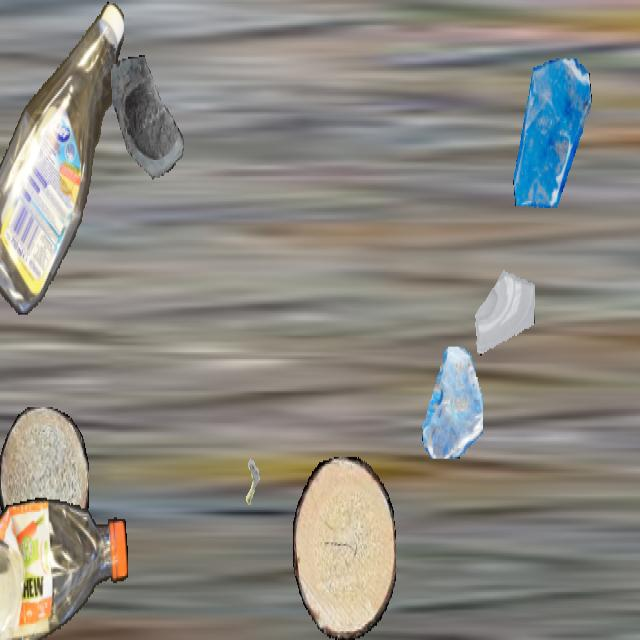glass: (510, 59, 594, 208), (111, 55, 193, 201), (420, 347, 482, 457), (474, 249, 534, 355)
metal: (230, 454, 270, 524)
plastic: (0, 2, 124, 314), (0, 496, 128, 638)
wood: (293, 457, 395, 638), (0, 407, 89, 557)
